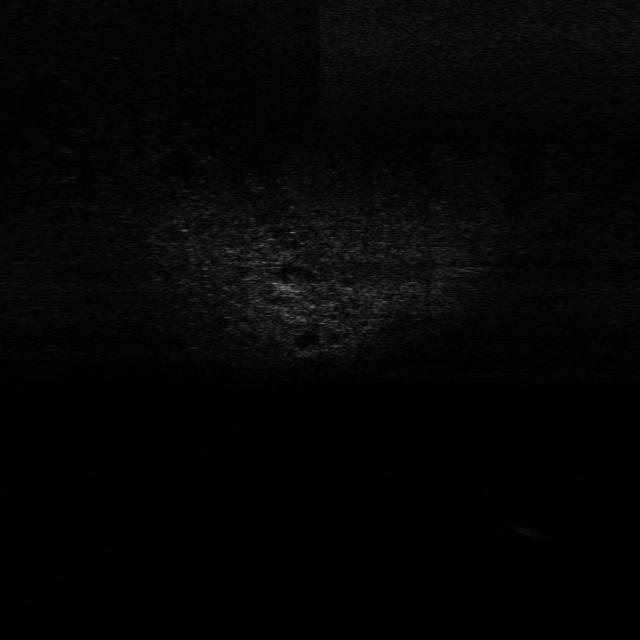cylinder: (518, 516, 547, 541)
